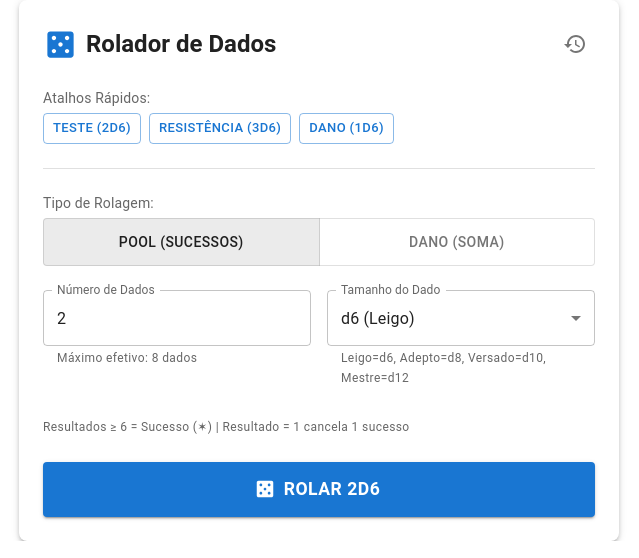
Test: DiceRoller › Mode Switching › should show damage modifier input in damage mode
Click the button with aria-label "dano (soma numérica)": [457, 242] box [318,218,595,266]
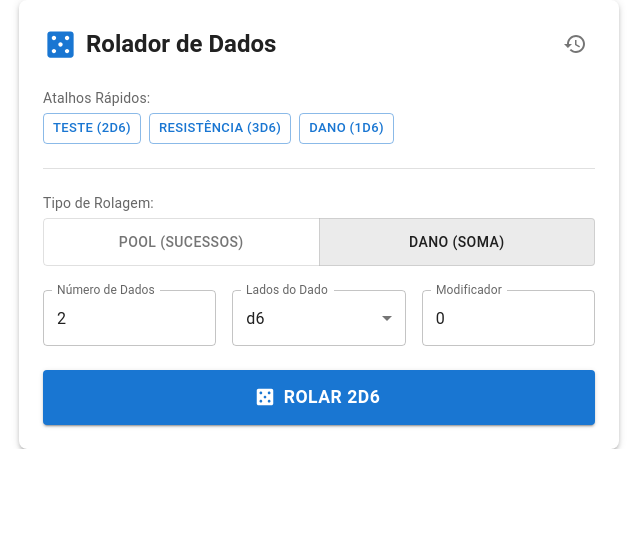
Expected: the element named "Modificador a adicionar" is shown, [422,290,595,346]
